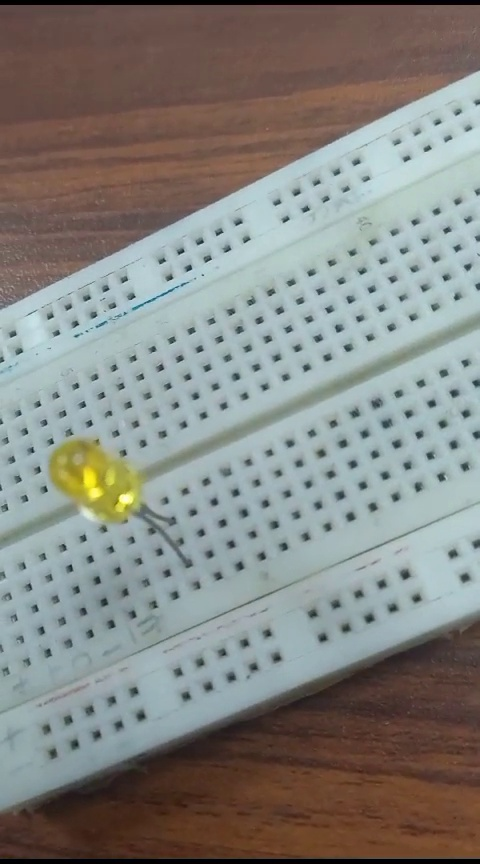LED: (36, 428, 176, 576)
